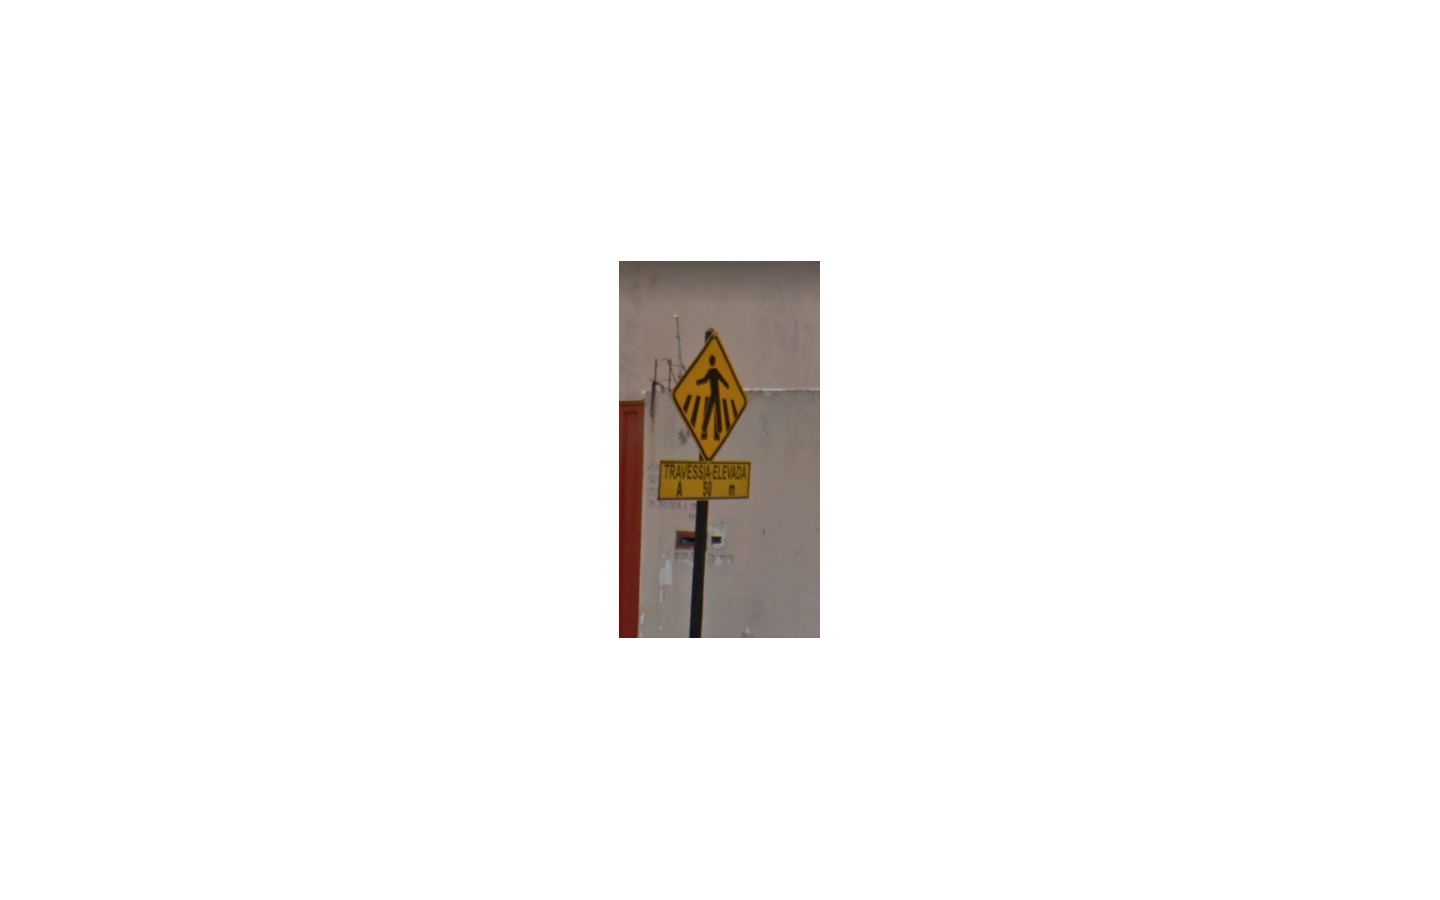t50m: (658, 333, 750, 501)
